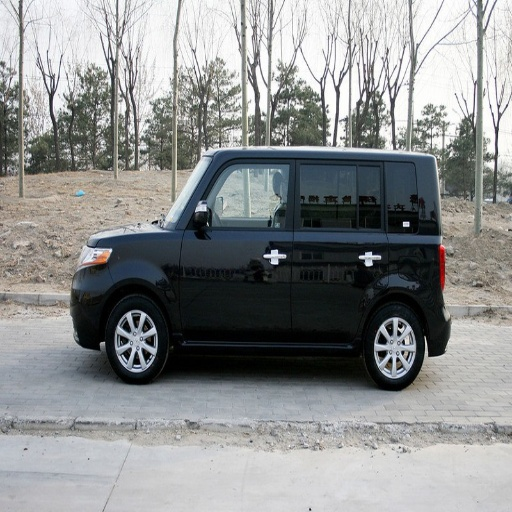back_left_door: (292, 158, 386, 341)
front_left_door: (181, 158, 294, 337)
trunk: (397, 240, 433, 314)
